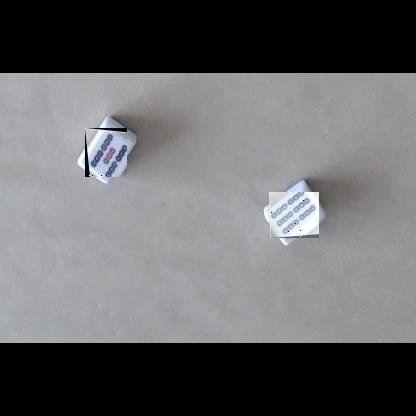5s: (85, 128, 127, 177)
6s: (269, 192, 319, 238)
